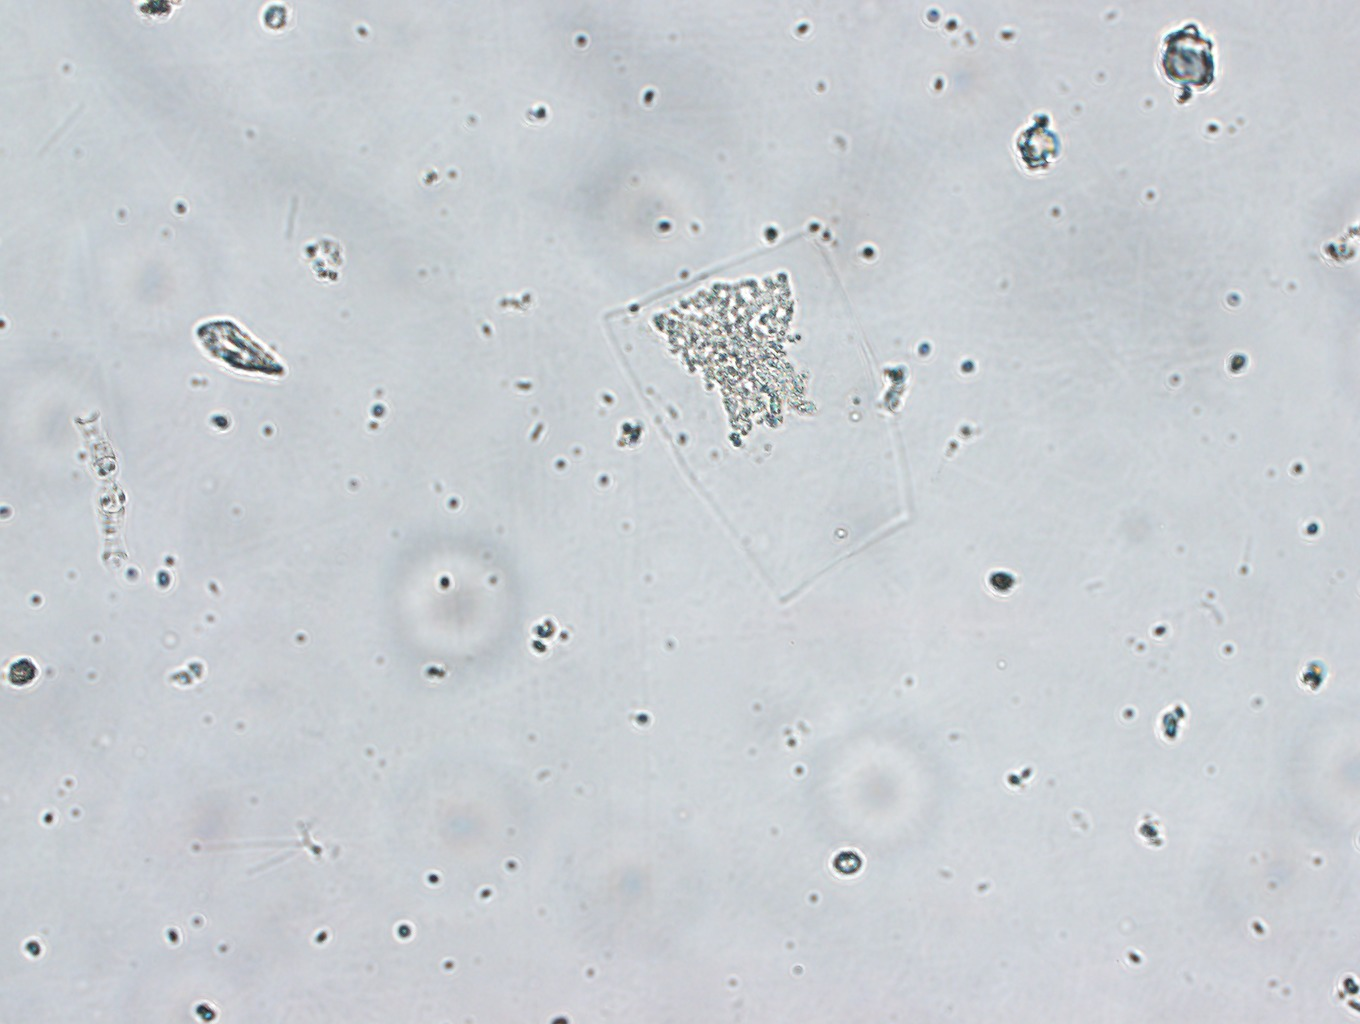helicotheca: (590, 217, 924, 612)
